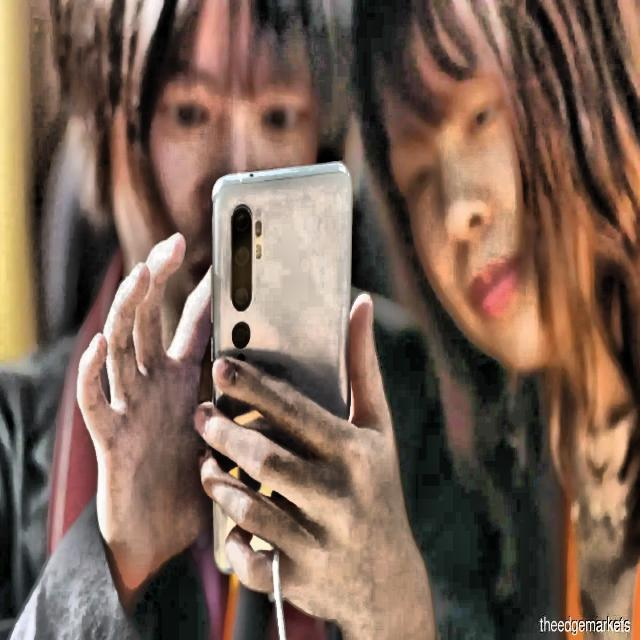Phone: (208, 159, 352, 574)
